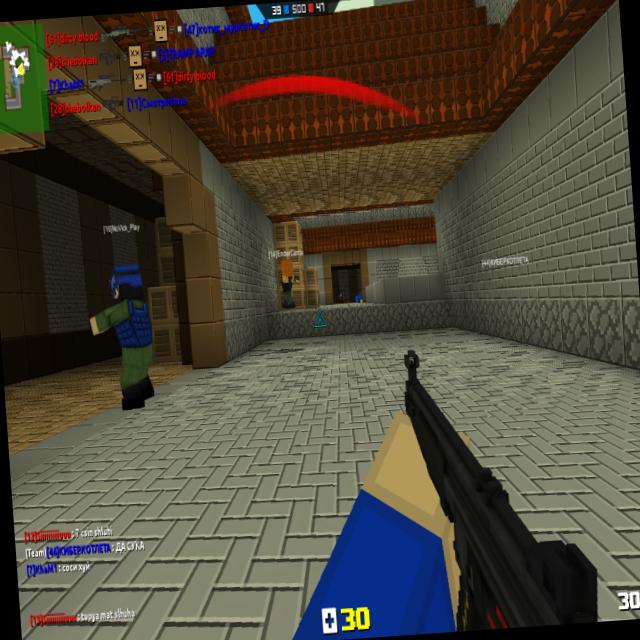enemy: (338, 292, 344, 302)
